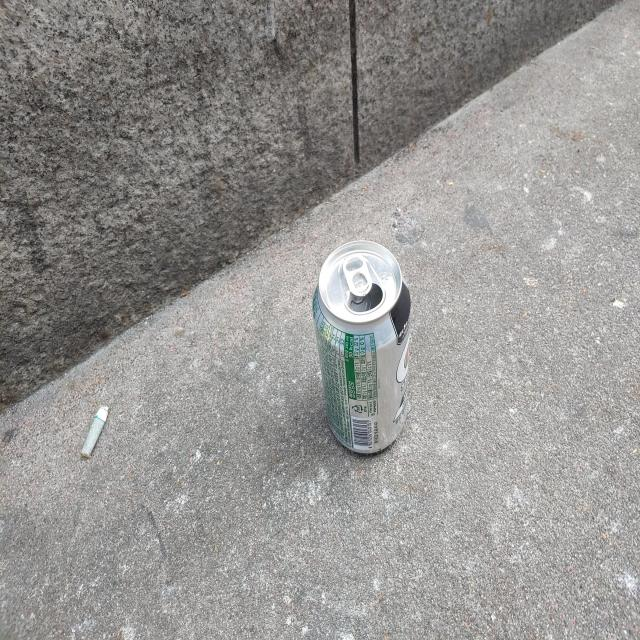can: (313, 240, 411, 453)
